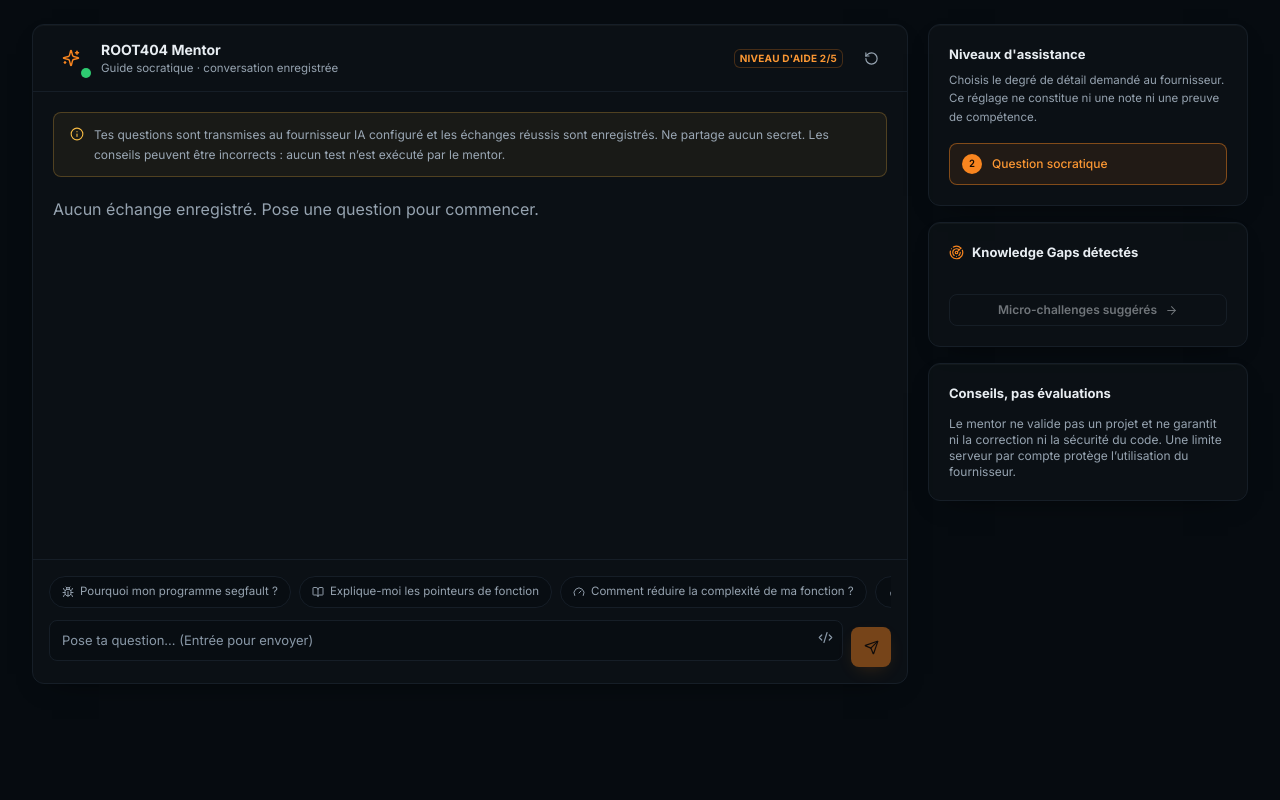
Test case: provider-backed mentor screen › reports provider failure without a canned response or fake successful message
Type "Help" into the text box named "Question au mentor".
click(446, 640); type("Help")  # box [49,620,843,661]
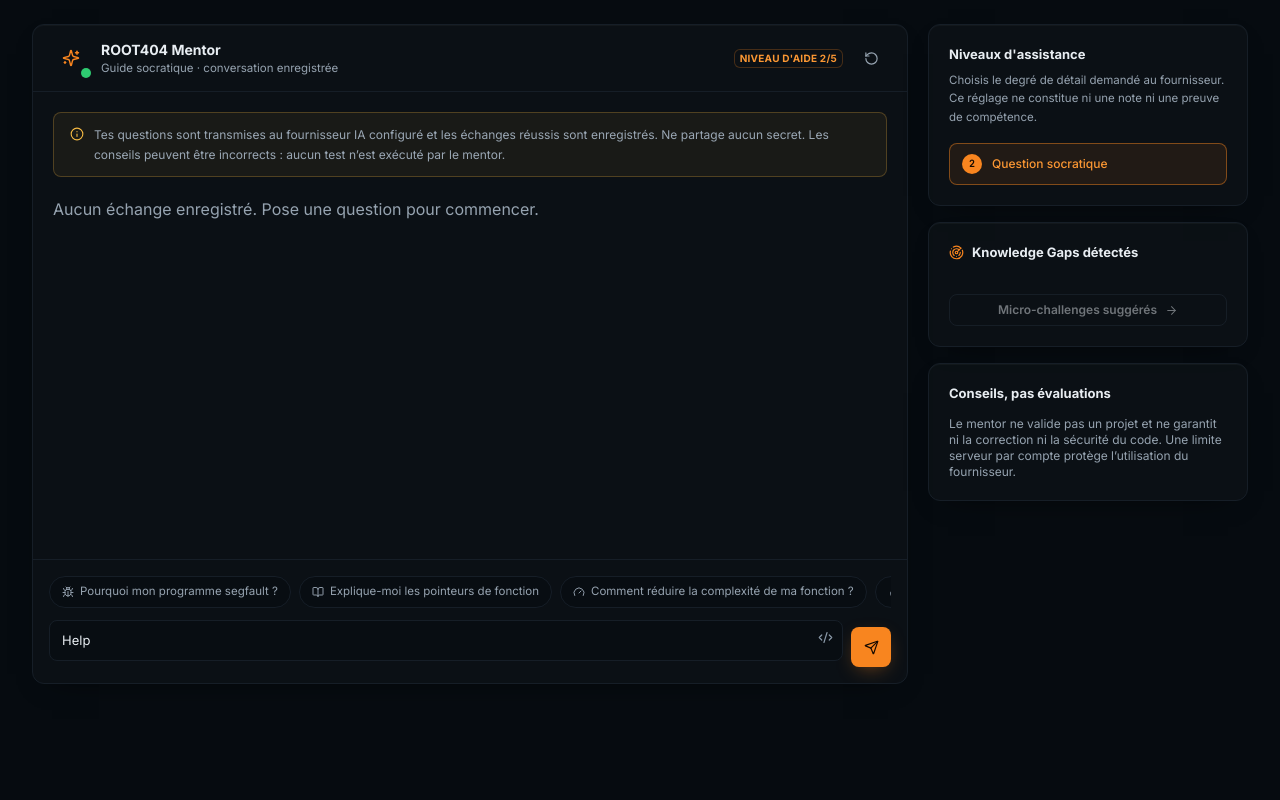
Click the button named "Envoyer".
click(871, 647)  # box [851,627,891,667]
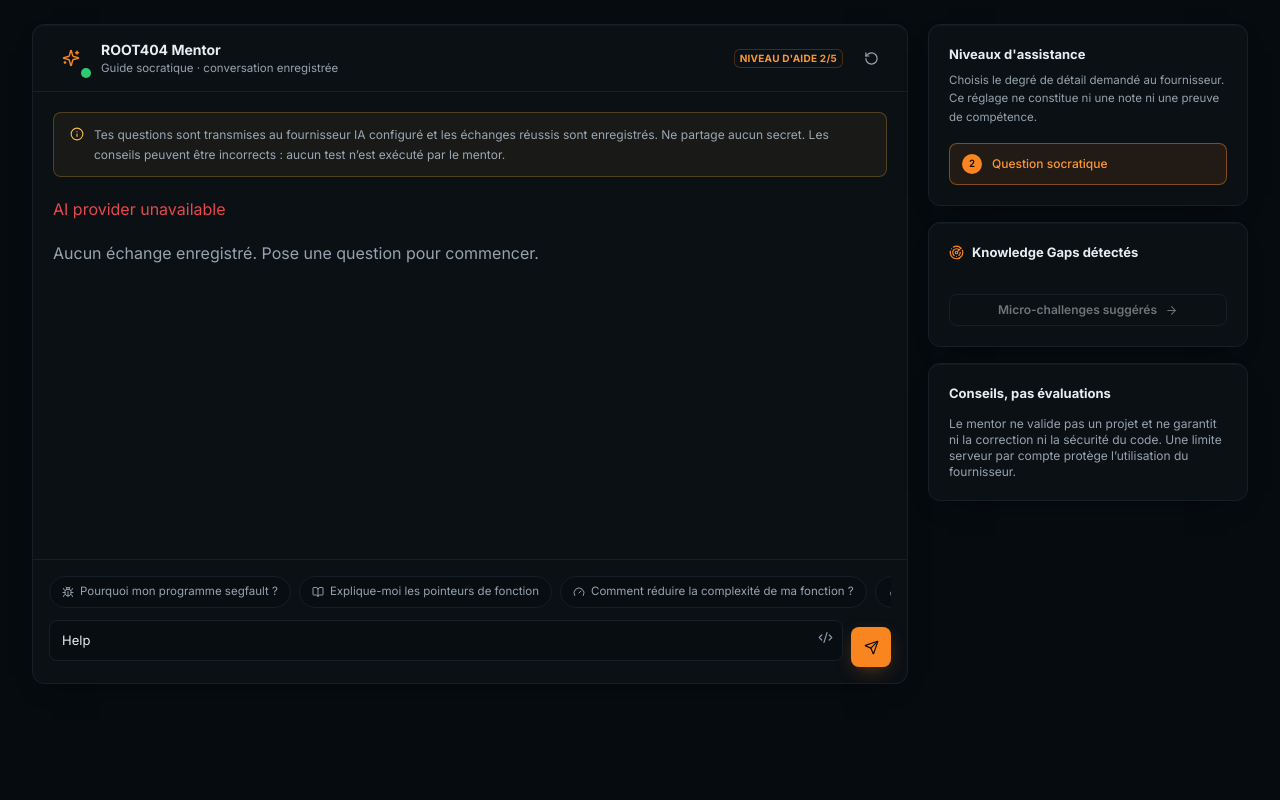
Expected: the text "Aucun échange enregistré. Pose une question pour commencer." is shown, [53,243,539,263]
Now the message reads "AI provider unavailable", box [53,199,226,219]
